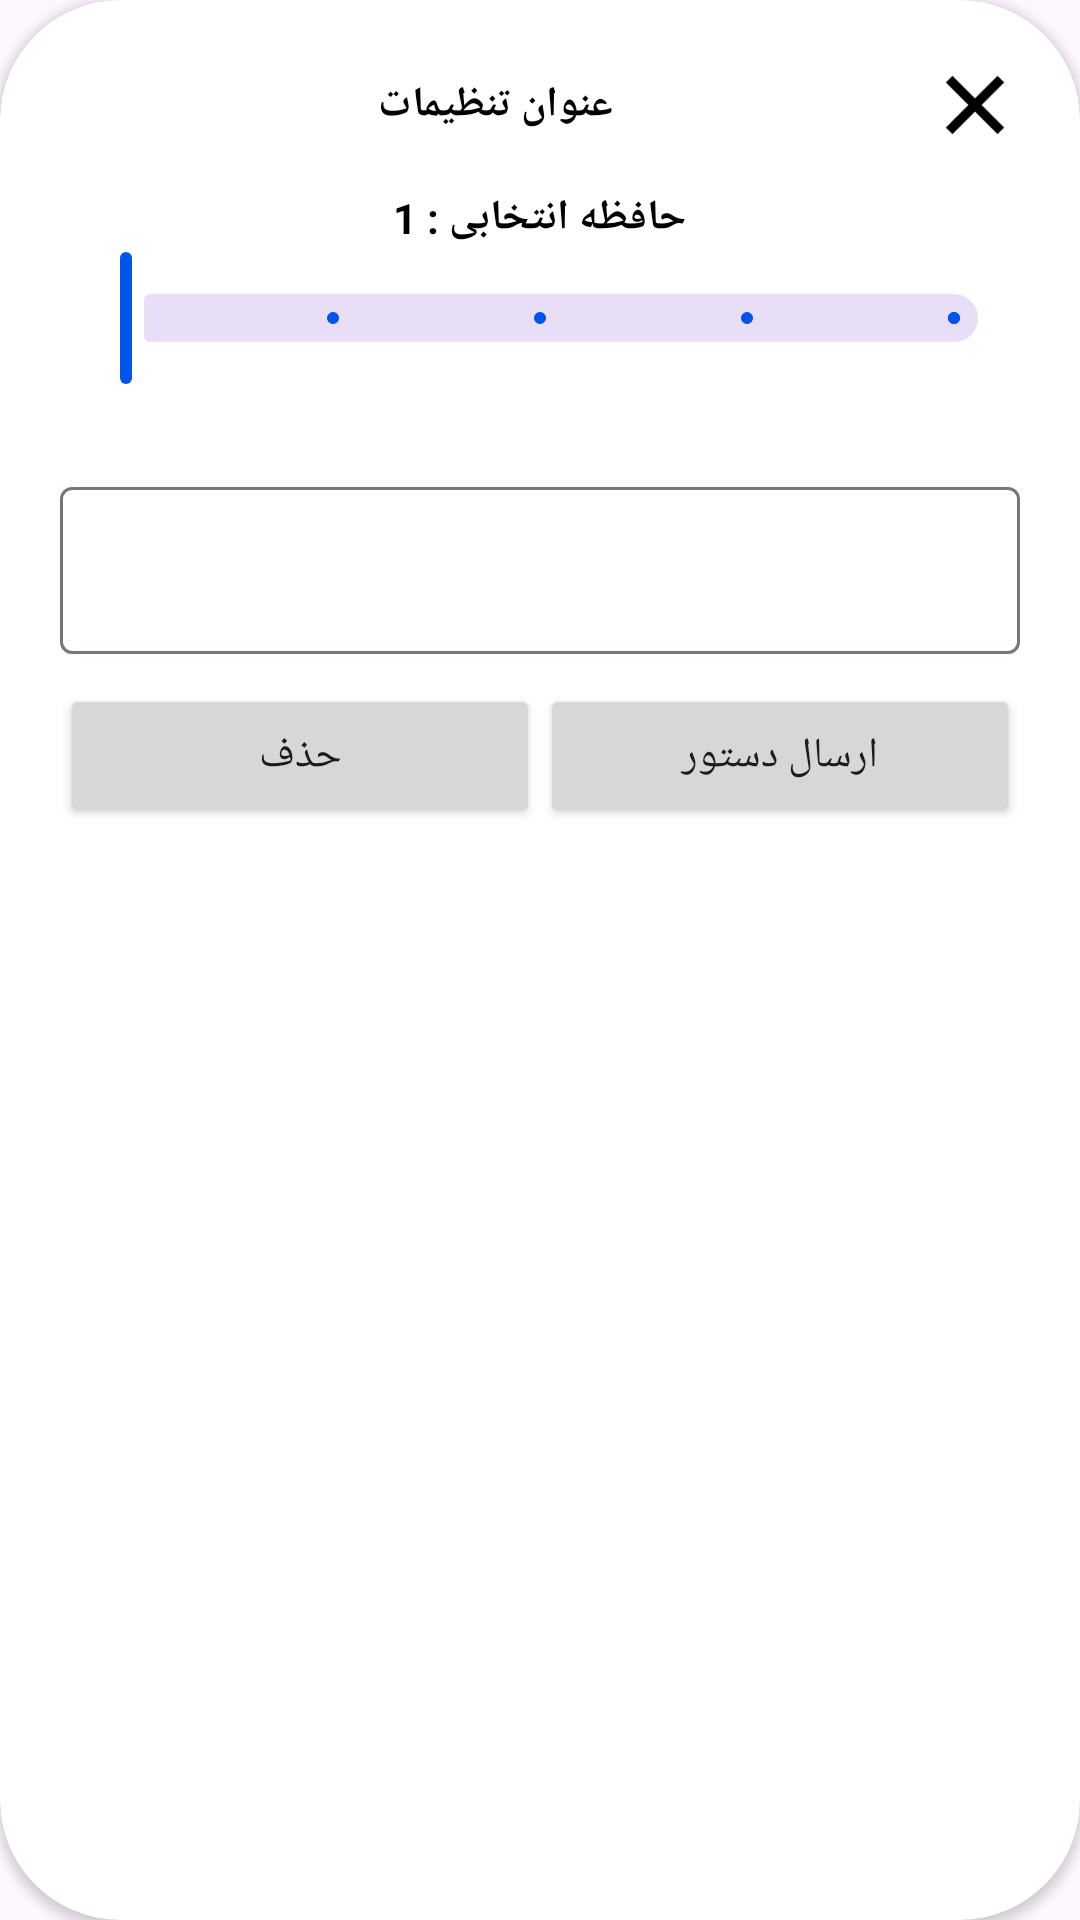

Icons on this 1080 × 1920 Android screen, each with its box as (x1, y1, x2, y2):
close: (946, 76, 1004, 134)
